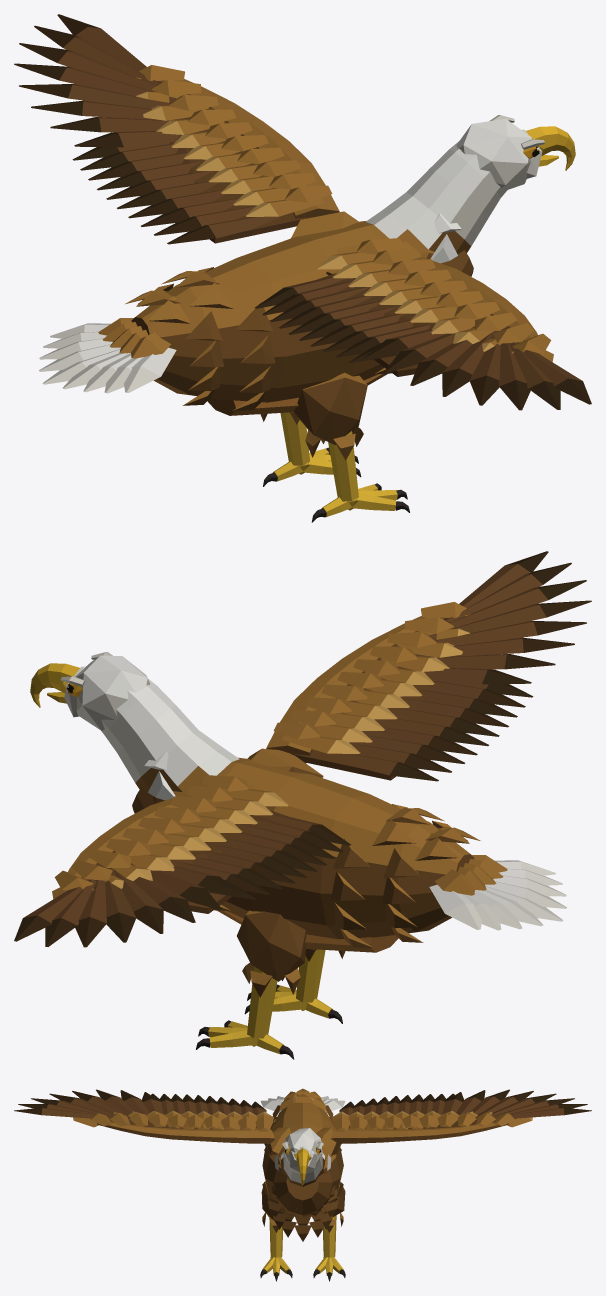
The model's file is mt_eagle_golden.glb.
3 renders of one model, top to bottom at view 1: azimuth 30°, elevation 25°; view 2: azimuth 150°, elevation 25°; view 3: azimuth 270°, elevation 25°, orthographic. The views are drawn at different scales.
Visible parts, largest first — view 1: wingL_m, wingR_m, base, head_m, legs_m, tail_m; view 2: wingR_m, wingL_m, base, head_m, legs_m, tail_m; view 3: wingR_m, wingL_m, base, legs_m, head_m, tail_m.
Boxes of the visible parts, x1=… form: wingL_m: x1=14, y1=14, x2=339, y2=244; wingR_m: x1=255, y1=238, x2=591, y2=410; base: x1=125, y1=211, x2=473, y2=415; head_m: x1=366, y1=115, x2=575, y2=263; legs_m: x1=260, y1=372, x2=409, y2=522; tail_m: x1=39, y1=318, x2=176, y2=393; wingR_m: x1=266, y1=551, x2=591, y2=781; wingL_m: x1=14, y1=775, x2=350, y2=947; base: x1=132, y1=748, x2=480, y2=952; head_m: x1=30, y1=652, x2=239, y2=800; legs_m: x1=196, y1=910, x2=345, y2=1059; tail_m: x1=429, y1=855, x2=566, y2=930; wingR_m: x1=14, y1=1089, x2=274, y2=1143; wingL_m: x1=331, y1=1089, x2=591, y2=1143; base: x1=262, y1=1088, x2=343, y2=1241; legs_m: x1=260, y1=1181, x2=345, y2=1281; head_m: x1=274, y1=1128, x2=331, y2=1186; tail_m: x1=260, y1=1096, x2=345, y2=1112.
Size of the model in its own units: 0.944 by 0.564 by 1.63.
